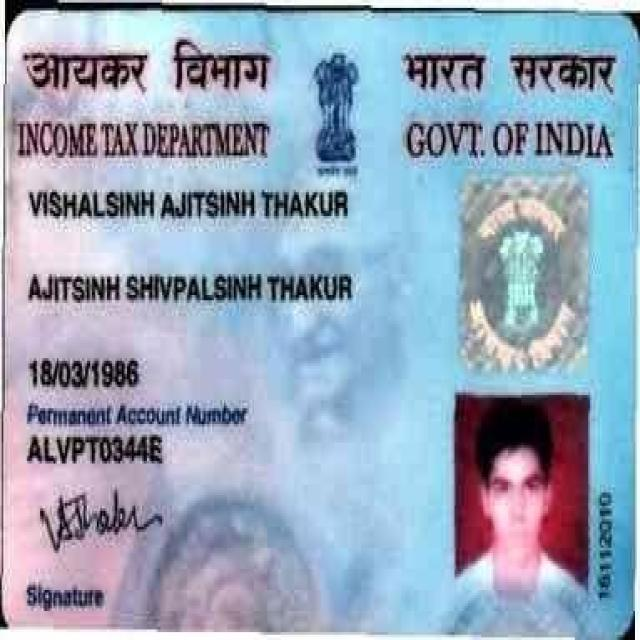pan_card: (4, 20, 636, 633)
